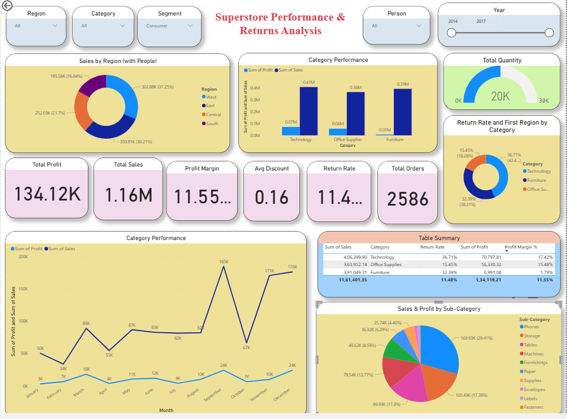

The page's visual inventory and layout, read from the dashboard file:
{"tool":"powerbi","page":{"name":"Page 1","canvas":[1600,1200],"ordinal":0},"visuals":[{"type":"card","title":"Total Profit","fields":{"Values":["Orders.Total Profit"]},"box":[0,450,233.3,171.1],"z":0},{"type":"card","title":"Total Sales","fields":{"Values":["Orders.Total Sales"]},"box":[242.2,456.7,237.8,164.4],"z":1000},{"type":"card","title":"Avg Discount","fields":{"Values":["Orders.Avg Discount"]},"box":[683.3,452.2,160,170],"z":2000},{"type":"card","title":"Return Rate","fields":{"Values":["Returns.Return Rate"]},"box":[850,452.2,214.4,171.1],"z":3000},{"type":"card","title":"Profit Margin","fields":{"Values":["Orders.Profit Margin %"]},"box":[482.2,453.3,201.1,168.9],"z":4000},{"type":"textbox","box":[582.9,28.3,422.2,102.5],"z":5000},{"type":"donutChart","title":"Sales by Region (with People)","fields":{"Category":["Orders.Region"],"Y":["Sum(Orders.Sales)"]},"box":[14.1,155.4,635.9,280.9],"z":6000},{"type":"clusteredColumnChart","title":"Category Performance","fields":{"Y":["Sum(Orders.Profit)","Sum(Orders.Sales)"],"Category":["Orders.Category"]},"box":[674.8,153.7,563.5,282.6],"z":7000},{"type":"pieChart","title":"Sales & Profit by Sub-Category","fields":{"Category":["Orders.Sub-Category"],"Y":["Sum(Orders.Sales)"]},"box":[890.3,858.5,694.2,328.5],"z":8000},{"type":"gauge","fields":{"Y":["Orders.Total Quantity"]},"box":[1254.1,153.7,330.3,160.7],"z":9000},{"type":"slicer","title":"Region","fields":{"Values":["Orders.Region"]},"box":[15.9,21.2,171.3,113],"z":10000},{"type":"slicer","title":"Category","fields":{"Values":["Orders.Category"]},"box":[203.1,21.2,174.9,114.8],"z":11000},{"type":"slicer","title":"Segment","fields":{"Values":["Orders.Segment"]},"box":[388.6,23,181.9,114.8],"z":12000},{"type":"slicer","title":"Year","fields":{"Values":["Orders.Order Date.Variation.Date Hierarchy.Year"]},"box":[1238.2,12.4,346.2,123.6],"z":13000},{"type":"slicer","title":"Person","fields":{"Values":["People.Column1"]},"box":[1026.3,23,190.8,107.8],"z":14000},{"type":"card","title":"Total Orders","fields":{"Values":["Orders.Total Orders"]},"box":[1072.2,444.4,168.9,178.9],"z":15000},{"type":"lineChart","title":"Category Performance","fields":{"Y":["Sum(Orders.Profit)","Sum(Orders.Sales)"],"Category":["Orders.Order Date.Variation.Date Hierarchy.Month"]},"box":[14.1,657.1,853.2,529.9],"z":16000},{"type":"actionButton","box":[0,0,100,40],"z":17000},{"type":"donutChart","fields":{"Category":["Orders.Category"],"Y":["Returns.Return Rate"]},"box":[1254.1,330.3,330.3,307.4],"z":18000},{"type":"tableEx","title":"Table Summary","fields":{"Values":["Sum(Orders.Sales)","Orders.Category","Returns.Return Rate","Sum(Orders.Profit)","Orders.Profit Margin %"]},"box":[897.3,657.1,687.1,187.2],"z":19000}]}

Visuals, with their boxes in screenshot pixels (x1, y1, x2, y2), scaled from the page's 1600x1200 canvas onto the 567x419 screenshot:
"Total Profit" card: box=[0, 157, 83, 217]
"Total Sales" card: box=[86, 159, 170, 217]
"Avg Discount" card: box=[242, 158, 299, 217]
"Return Rate" card: box=[301, 158, 377, 218]
"Profit Margin" card: box=[171, 158, 242, 217]
textbox: box=[207, 10, 356, 46]
"Sales by Region (with People)" donutChart: box=[5, 54, 230, 152]
"Category Performance" clusteredColumnChart: box=[239, 54, 439, 152]
"Sales & Profit by Sub-Category" pieChart: box=[316, 300, 562, 414]
gauge - Orders.Total Quantity: box=[444, 54, 561, 110]
"Region" slicer: box=[6, 7, 66, 47]
"Category" slicer: box=[72, 7, 134, 47]
"Segment" slicer: box=[138, 8, 202, 48]
"Year" slicer: box=[439, 4, 561, 47]
"Person" slicer: box=[364, 8, 431, 46]
"Total Orders" card: box=[380, 155, 440, 218]
"Category Performance" lineChart: box=[5, 229, 307, 414]
actionButton: box=[0, 0, 35, 14]
donutChart - Orders.Category x Returns.Return Rate: box=[444, 115, 561, 223]
"Table Summary" tableEx: box=[318, 229, 561, 295]
